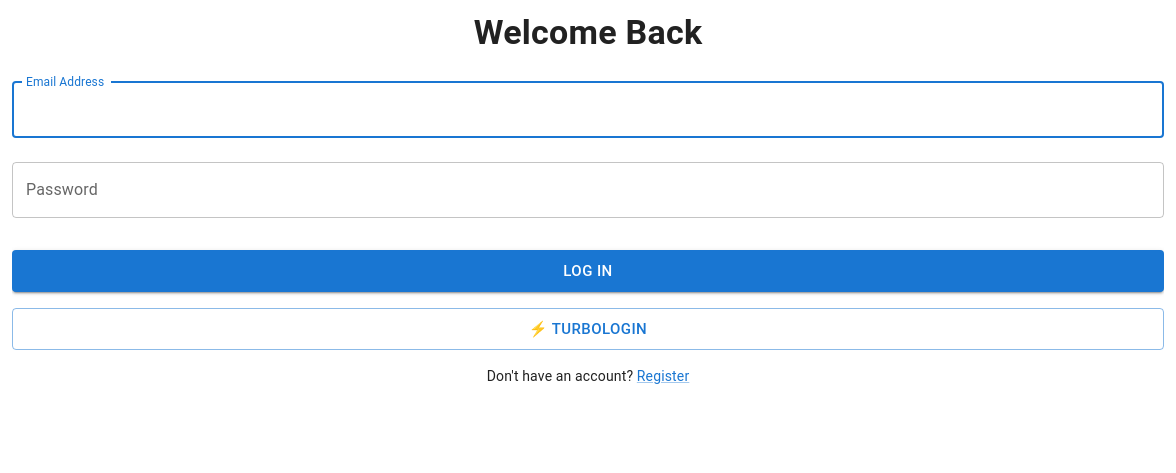
Scenario: LoginForm › does not navigate when login is rejected
The image size is (1176, 473).
Type "test@example.com" into the field labelled "Email Address" at (588, 110), box [12,82,1164,138]
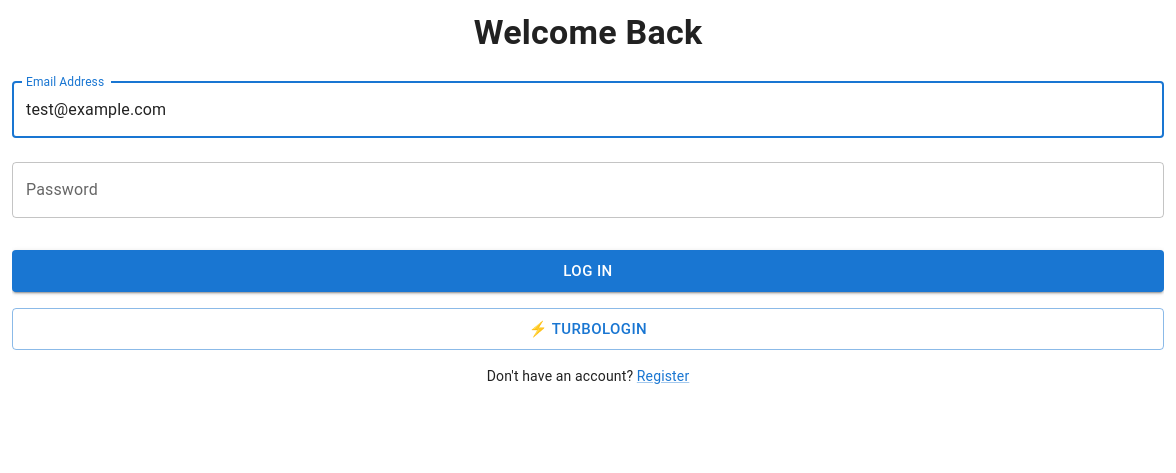
Type "Password123" into the password field labelled "Password" at (588, 190), box [12,162,1164,218]
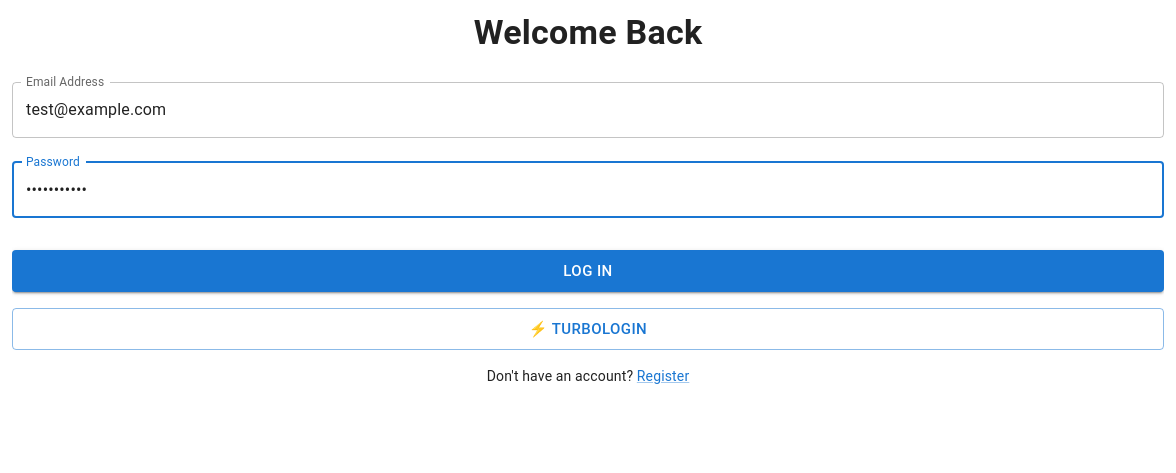
Click the button "Log In" at (588, 271), box [12,250,1164,292]
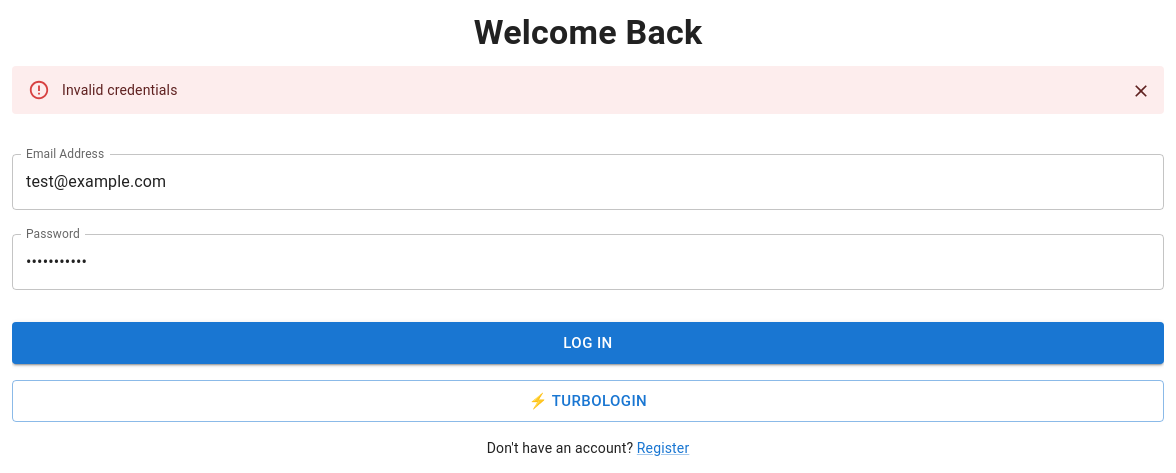
Expected: the text "Invalid credentials" is shown, [62,82,178,98]
